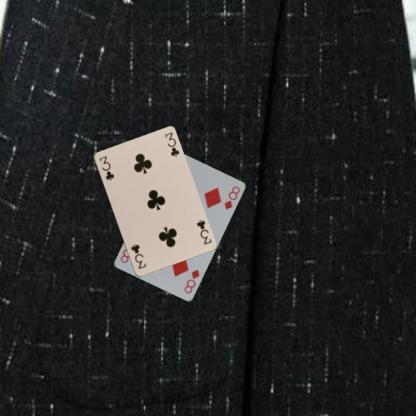3c: (96, 153, 115, 182), (194, 217, 212, 246)
8d: (182, 266, 200, 295)
